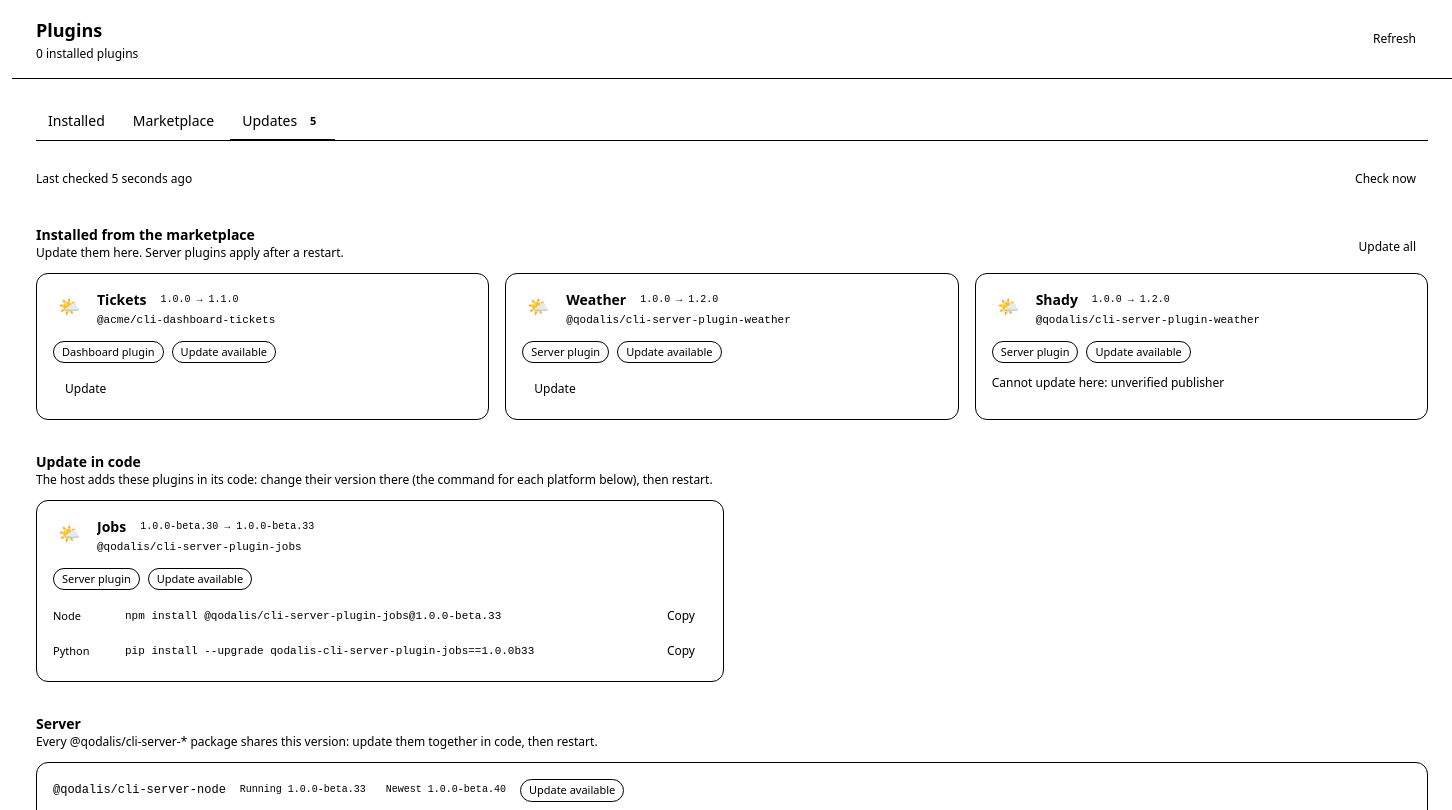
Scenario: Plugins → Updates › Check now asks the server and shows the new result
What coordinates should you click on to do the following:
click the button "Check now"
I would click on:
 (1386, 179)
Its box is [1343,165,1428,193].
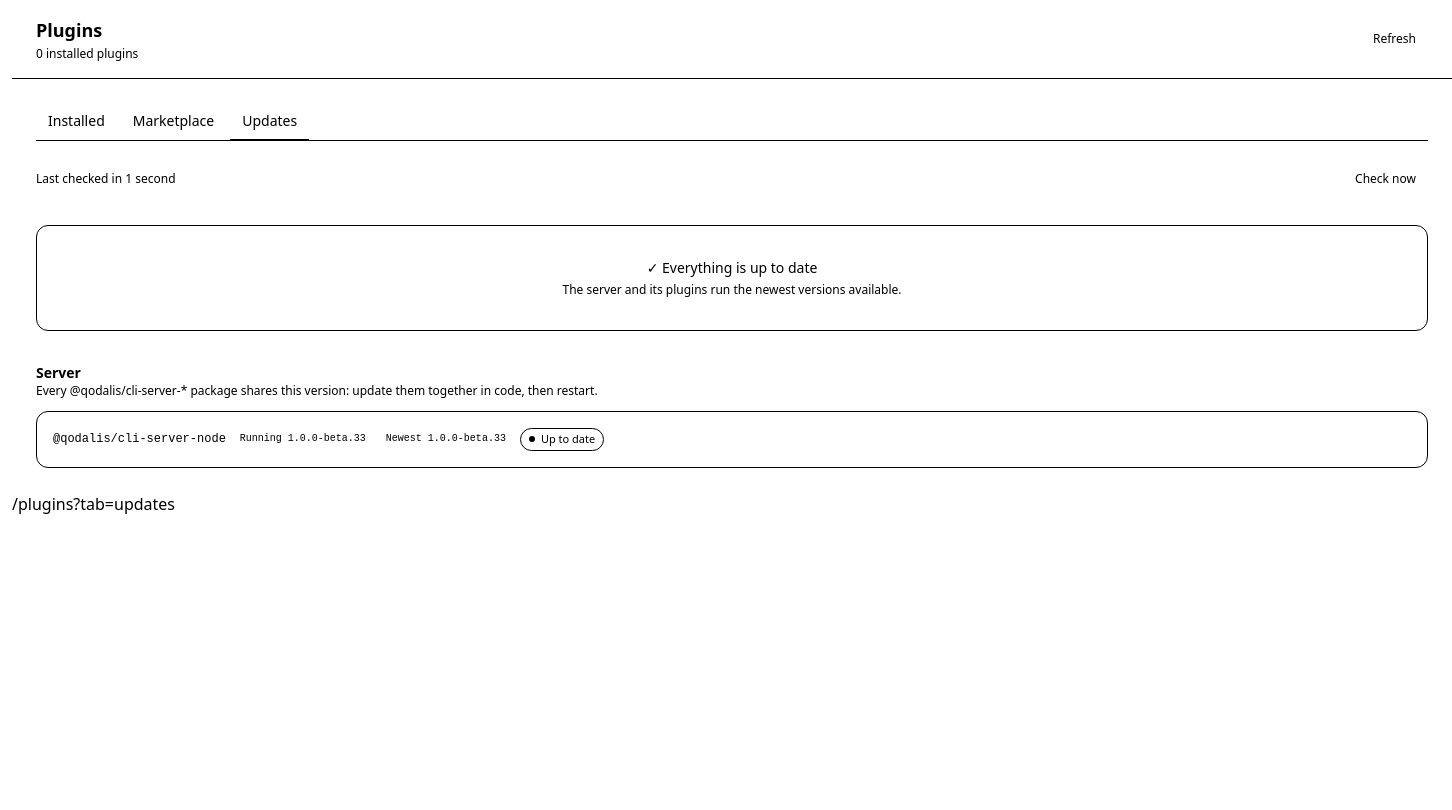
Now the text "✓ Everything is up to date" is shown, box [647,258,817,277]
Now the element with test id "server-update" shows "Up to date", box [541,431,595,446]
Now the text with test id "updates-tab-badge" is gone
